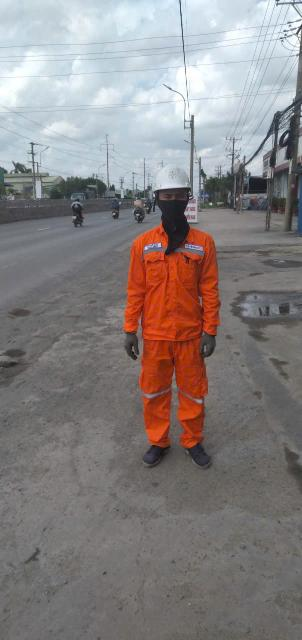gloves: (118, 329, 156, 364), (196, 330, 224, 360)
helmet: (149, 164, 198, 202)
shoes: (182, 432, 220, 475), (142, 437, 172, 476)
